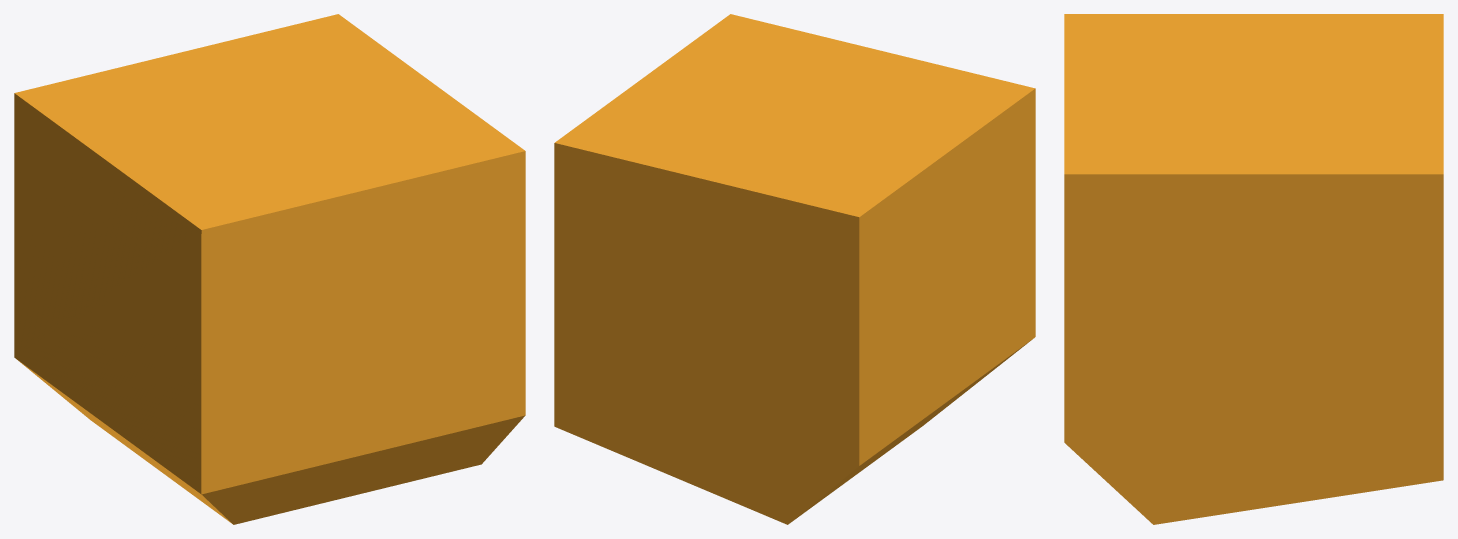
File: SM_Battlement_Trim_Corner_A_Fantasy.fbx
3 renders of one model, left to right at view 1: azimuth 30°, elevation 25°; view 2: azimuth 150°, elevation 25°; view 3: azimuth 270°, elevation 25°, orthographic. The views are drawn at different scales.
Parts seen in each view (by area): view 1: SM_Battlement_Trim_Corner_A_Fantasy; view 2: SM_Battlement_Trim_Corner_A_Fantasy; view 3: SM_Battlement_Trim_Corner_A_Fantasy.
Boxes of the visible parts, x1,y1,x2,y2 form: SM_Battlement_Trim_Corner_A_Fantasy: [14, 14, 525, 524]; SM_Battlement_Trim_Corner_A_Fantasy: [554, 14, 1035, 524]; SM_Battlement_Trim_Corner_A_Fantasy: [1064, 14, 1443, 524].
Bounding box in the file's own units: 0.3232 × 0.3294 × 0.3232.
